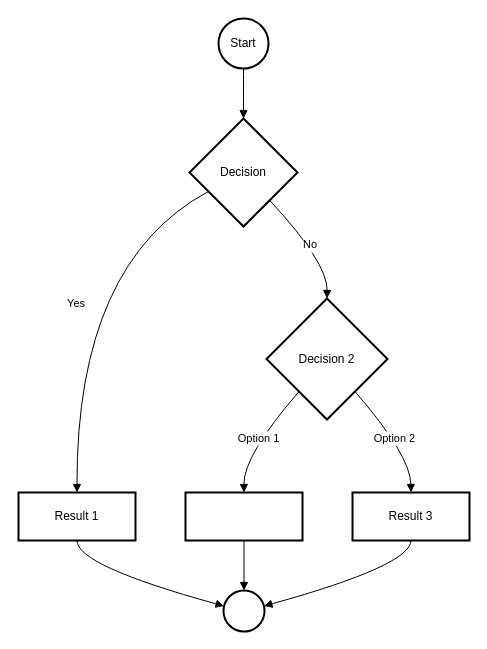
Image size: 487x649. Some labels were removed from this diagram. Here are the shapes that lost their labels. From the top down, the centre of each, then its label:
(243,516): Result 2
(243,610): End
